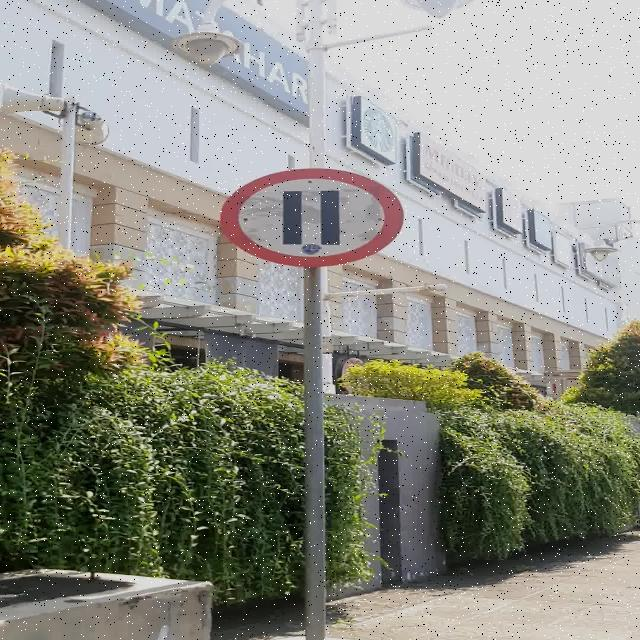Larangan Muatan - 10 ton: (220, 168, 402, 266)
